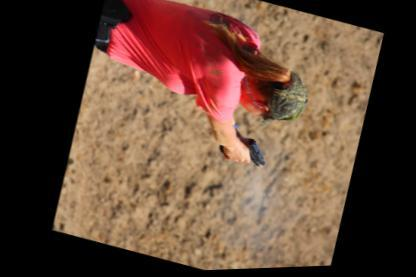pistol: (216, 130, 270, 168)
